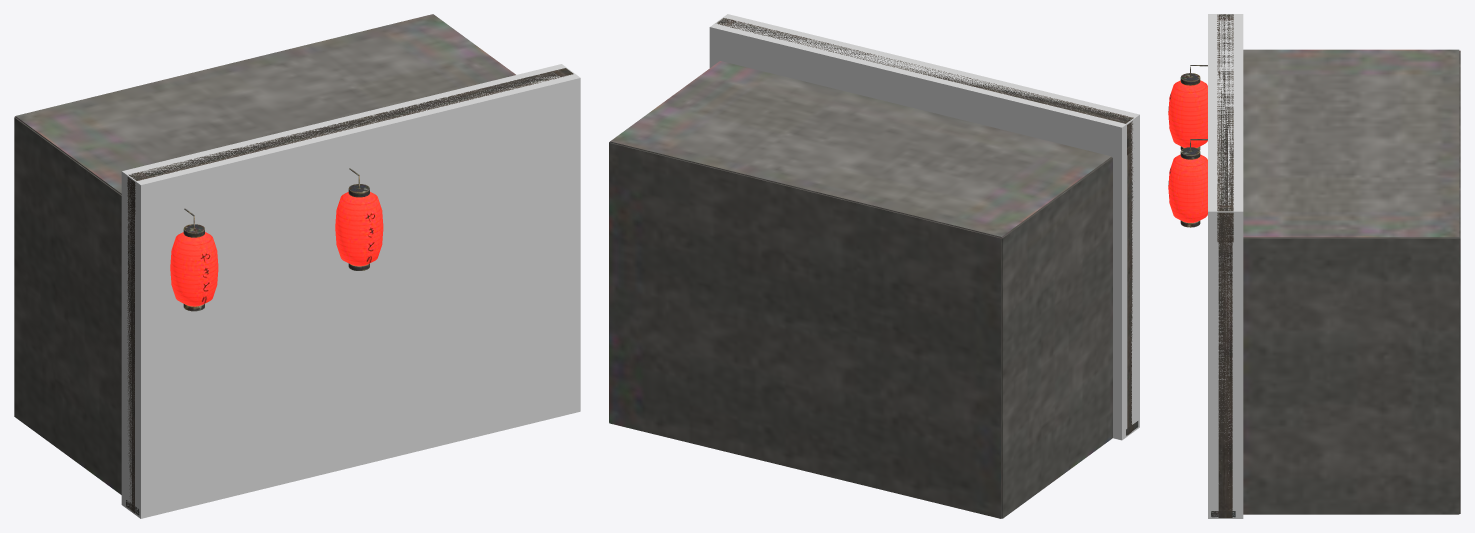
Rendered from sf07_front.gltf.
The picture shows the model from 3 angles, left to right: view 1: azimuth 30°, elevation 25°; view 2: azimuth 150°, elevation 25°; view 3: azimuth 270°, elevation 25°; orthographic projection. The views are drawn at different scales.
Visible parts, largest first — view 1: sf07_front_COL, sf07_front_LOD0; view 2: sf07_front_LOD0, sf07_front_COL; view 3: sf07_front_LOD0, sf07_front_COL.
Part boxes in pixels (x1,y1,x2,y2): sf07_front_COL: (121,64,580,518); sf07_front_LOD0: (14,14,573,515); sf07_front_LOD0: (609,18,1138,518); sf07_front_COL: (709,14,1139,440); sf07_front_LOD0: (1168,14,1460,517); sf07_front_COL: (1208,14,1243,518).
Size of what is drawn, in the model's own units: 4 by 2.9 by 2.5.
2 materials, 1 textured.
